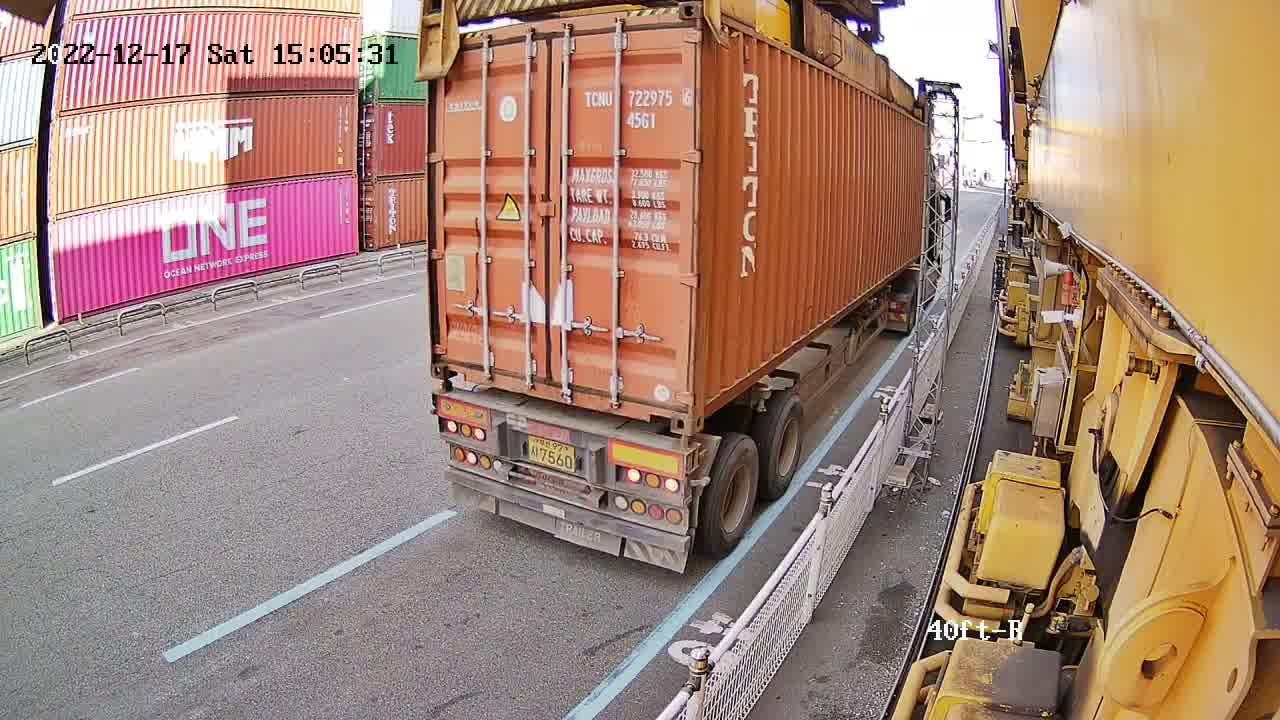Chassis: (436, 395, 688, 485)
Cone: (676, 436, 699, 471), (433, 380, 454, 403)
Hole_L: (690, 360, 720, 435), (431, 343, 470, 380)
Hole_R: (646, 384, 691, 433)
Tire: (708, 444, 759, 545), (767, 395, 809, 494)
